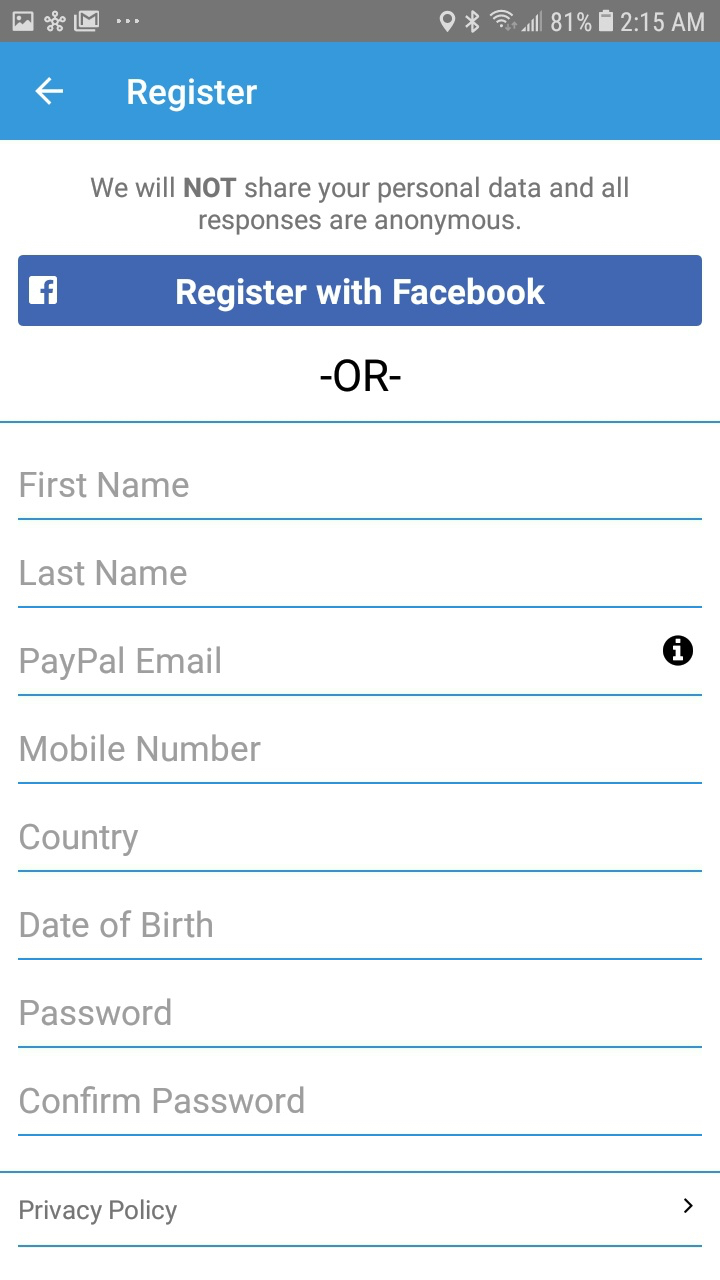EditText: (18, 635, 702, 697), (18, 1086, 702, 1137), (19, 998, 703, 1049), (19, 910, 703, 961), (18, 734, 702, 785), (19, 823, 703, 873), (19, 471, 703, 521), (18, 559, 702, 609)
Icon: (663, 635, 694, 667), (35, 77, 64, 107), (684, 1198, 694, 1214)
Text: (90, 177, 629, 237), (21, 1086, 305, 1114), (21, 645, 221, 681), (21, 734, 261, 763), (20, 910, 213, 939), (128, 78, 258, 114), (21, 471, 190, 498), (21, 559, 188, 586), (20, 1199, 178, 1226), (21, 998, 172, 1026), (21, 824, 140, 857), (320, 359, 402, 393)
TextButton: (19, 255, 703, 327)
UpperTaskBar: (1, 1, 720, 43)
